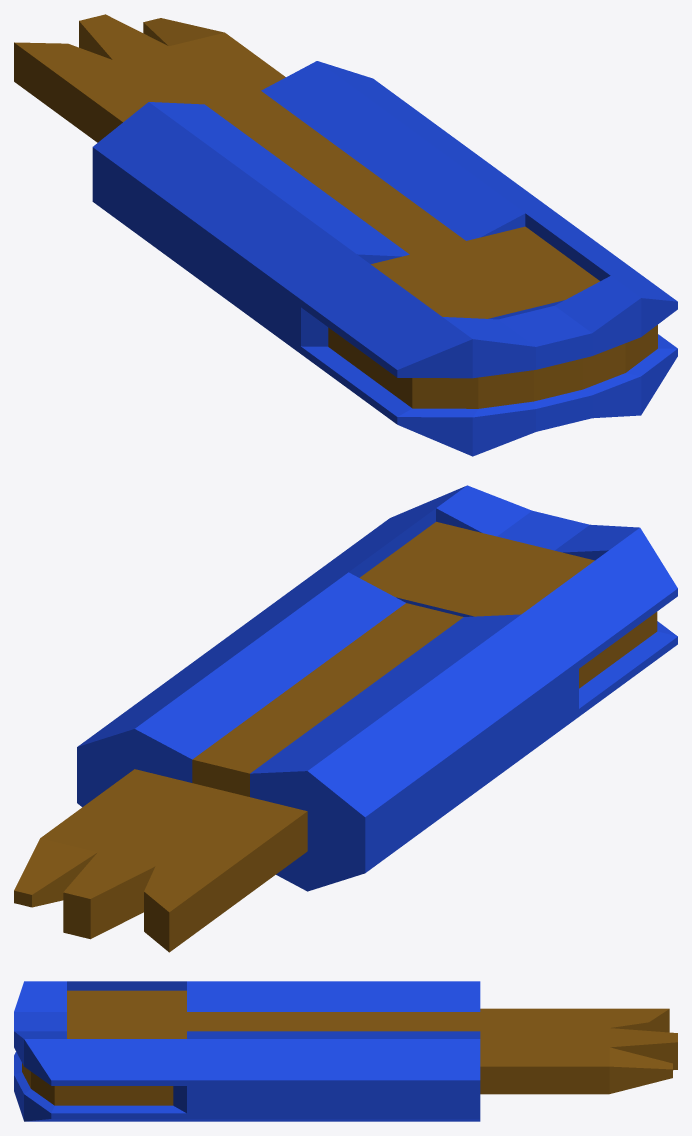
The model's file is Electronic lock pick.fbx.
The picture shows the model from 3 angles, top to bottom: view 1: azimuth 30°, elevation 25°; view 2: azimuth 150°, elevation 25°; view 3: azimuth 270°, elevation 25°; orthographic projection. The views are drawn at different scales.
Visible parts, largest first — view 1: Cube; view 2: Cube; view 3: Cube.
Part boxes in pixels (x1,y1,x2,y2): Cube: (14,14,677,456); Cube: (14,485,677,952); Cube: (14,981,677,1121).
Size of the model in its own units: 5 by 2 by 14.56.
